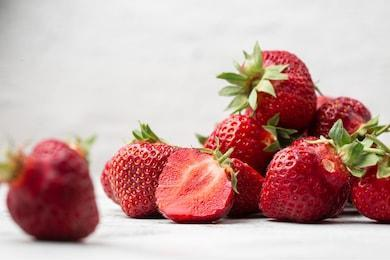Fresa: (252, 139, 352, 227), (235, 47, 322, 136), (106, 138, 184, 220)
